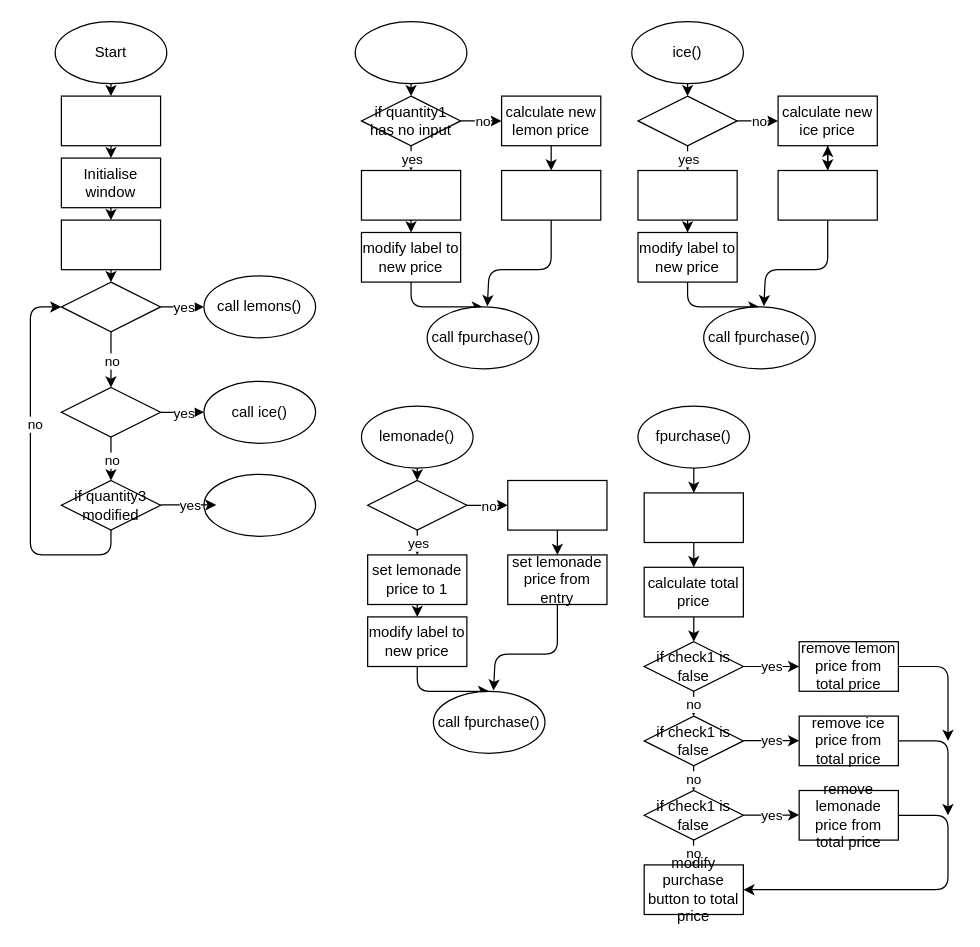
The diagram is 980 pixels wide and 947 high, and some of its shapes have lost their labels. Here are the shapes that lost their labels. From the top down, the box of each, then its label:
(354, 20, 467, 84): lemons()
(60, 95, 161, 146): State menu item prices
(637, 95, 737, 146): if quantity2 has no input
(360, 169, 461, 220): set lemon price to 1
(500, 169, 601, 220): set lemon price from entry
(637, 169, 737, 220): set ice price to 1
(777, 169, 877, 220): set ice price from entry
(60, 219, 161, 270): Initialise widgets
(60, 281, 161, 332): if quantity1 modified
(60, 386, 161, 437): if quantity2 modified
(203, 473, 316, 536): call lemonade()
(366, 479, 467, 530): if quantity3 has no input
(507, 479, 607, 530): calculate new lemonade price
(643, 492, 743, 542): initalise current prices of all items
